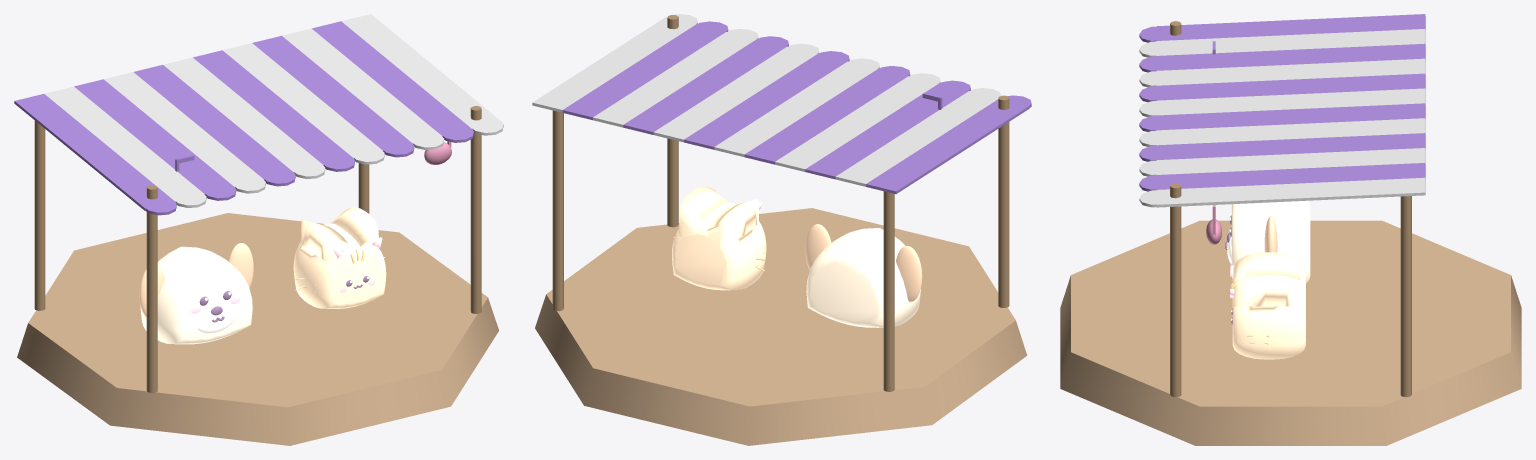
The model's file is building_bandstand_L04.glb.
3 views of the same model, side by side, from view 1: azimuth 30°, elevation 25°; view 2: azimuth 150°, elevation 25°; view 3: azimuth 270°, elevation 25° (orthographic). The views are drawn at different scales.
Parts seen in each view (by area): view 1: Body, object 17, object 7, object 8, object 9; view 2: Body, object 17, object 7, object 8; view 3: Body, object 17, object 7.
Part boxes in pixels (<box>): Body: <box>14,14,503,445</box>; object 17: <box>293,207,386,308</box>; object 7: <box>140,246,252,344</box>; object 8: <box>139,243,253,316</box>; object 9: <box>196,306,234,333</box>; Body: <box>532,14,1031,445</box>; object 17: <box>672,186,766,290</box>; object 7: <box>806,228,920,327</box>; object 8: <box>805,224,922,302</box>; Body: <box>1060,14,1521,445</box>; object 17: <box>1232,252,1305,359</box>; object 7: <box>1231,200,1310,282</box>.
Size of the model in its own units: 12.01 by 7.11 by 12.01.
